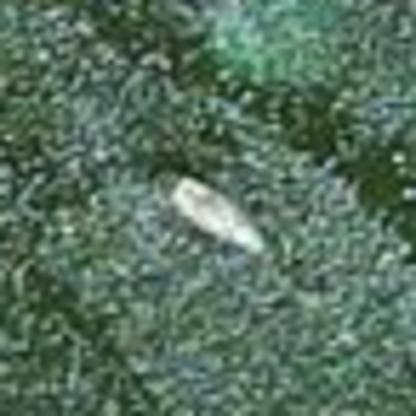ship: (154, 164, 273, 258)
